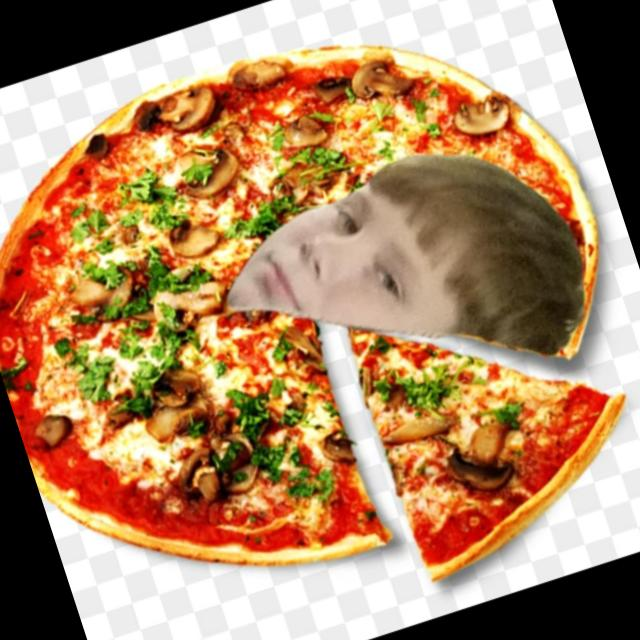mushrooms: (438, 408, 528, 502), (174, 426, 268, 509), (142, 251, 232, 333), (137, 364, 216, 450), (70, 254, 146, 325), (156, 78, 228, 140), (379, 398, 458, 451), (178, 137, 240, 199), (350, 51, 414, 110), (269, 323, 327, 386), (165, 208, 226, 264), (453, 91, 516, 140), (273, 109, 332, 158), (314, 428, 359, 473), (32, 408, 72, 450), (314, 70, 354, 106)
pizza: (0, 45, 603, 570)
